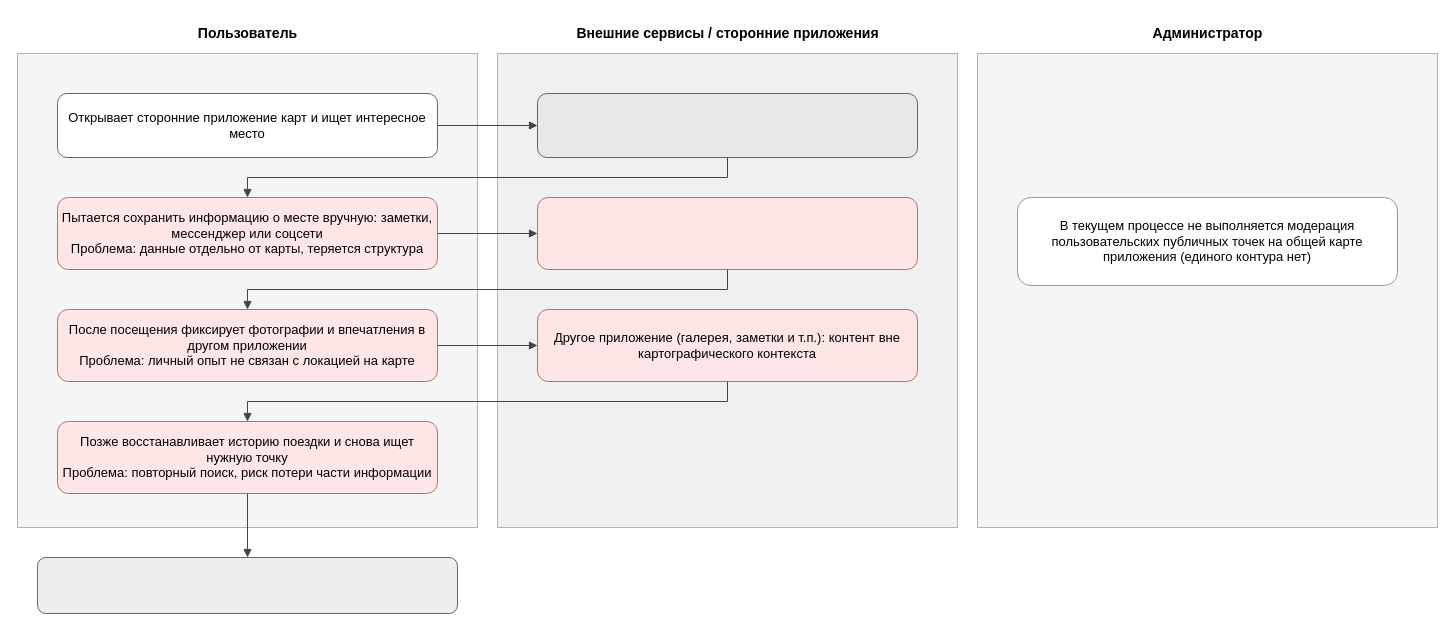
Some shapes in this 1455 by 631 pixel diagram are drawn without their labels. Here are the shapes that lost their labels. From the top down, the box of each, then its label:
(536, 92, 918, 158): Приложение карты: просмотр расположения и базовой информации о месте
(536, 196, 918, 270): Заметки / мессенджер / соцсети: фрагментарное хранение
(36, 556, 458, 614): Итог AS-IS: карта, заметки, фото и история поездки разрознены между сервисами
